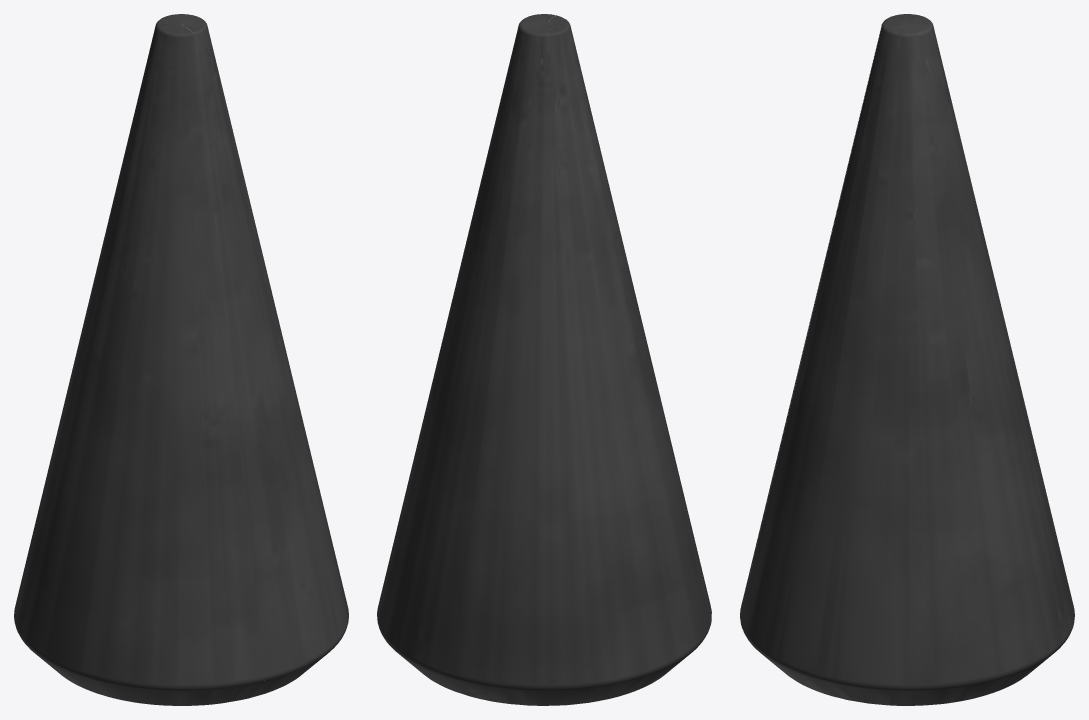
File: 01_pesec_cerna.glb
The picture shows the model from 3 angles, left to right: view 1: azimuth 30°, elevation 25°; view 2: azimuth 150°, elevation 25°; view 3: azimuth 270°, elevation 25°; orthographic projection.
Visible parts, largest first — view 1: 01_pesec_cerna; view 2: 01_pesec_cerna; view 3: 01_pesec_cerna.
Part boxes in pixels (<box>): 01_pesec_cerna: <box>14,14,348,705</box>; 01_pesec_cerna: <box>377,14,711,705</box>; 01_pesec_cerna: <box>740,14,1074,705</box>.
Bounding box in the file's own units: 0.0342 × 0.0705 × 0.0342.
1 material, 1 textured.
